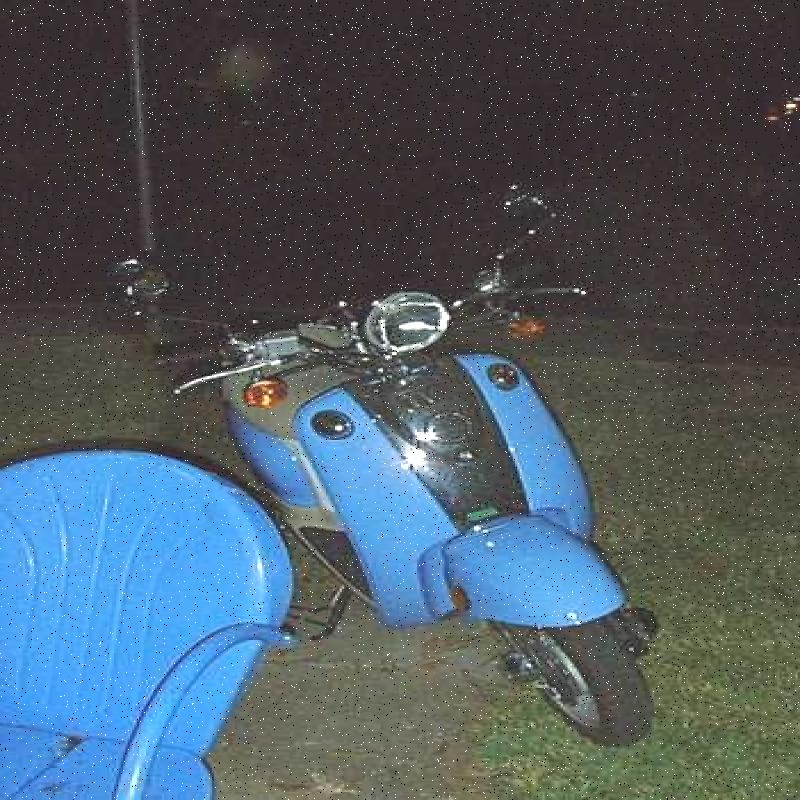bike: (194, 201, 683, 739)
